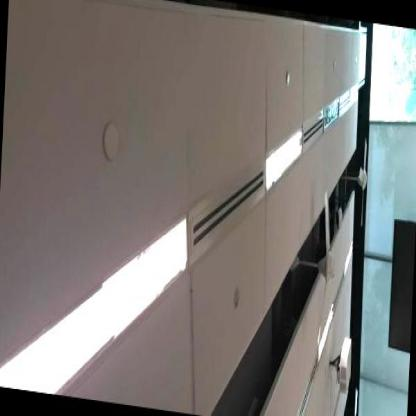light_on: (0, 180, 197, 414), (256, 116, 308, 204), (308, 284, 338, 371), (341, 233, 355, 284)
